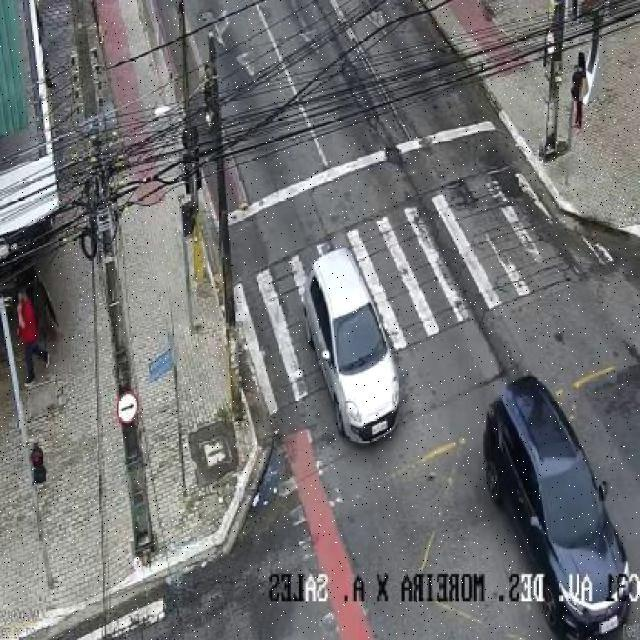Car: (478, 372, 640, 640), (300, 242, 413, 451)
